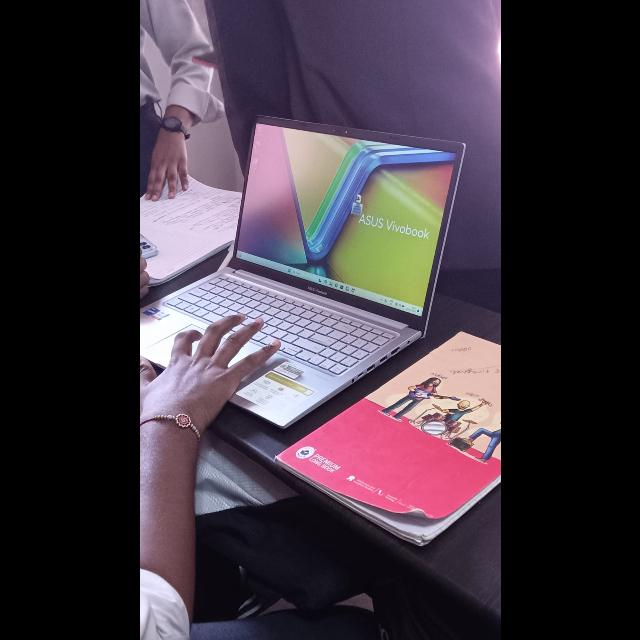laptop: (168, 120, 490, 346)
